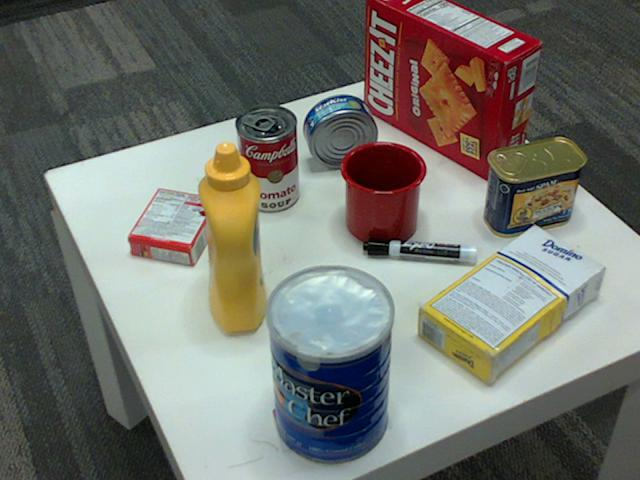cracker_box: (363, 0, 541, 180)
gelatin_box: (124, 185, 217, 263)
large_marker: (364, 238, 477, 267)
master_chef_can: (265, 267, 394, 467)
mug: (337, 140, 425, 244)
mustard_bottle: (195, 142, 265, 332)
potted_meat_can: (483, 139, 584, 238)
sugar_box: (414, 225, 603, 386)
tomato_soup_can: (234, 105, 298, 212)
tuna_fish_can: (301, 94, 376, 168)
